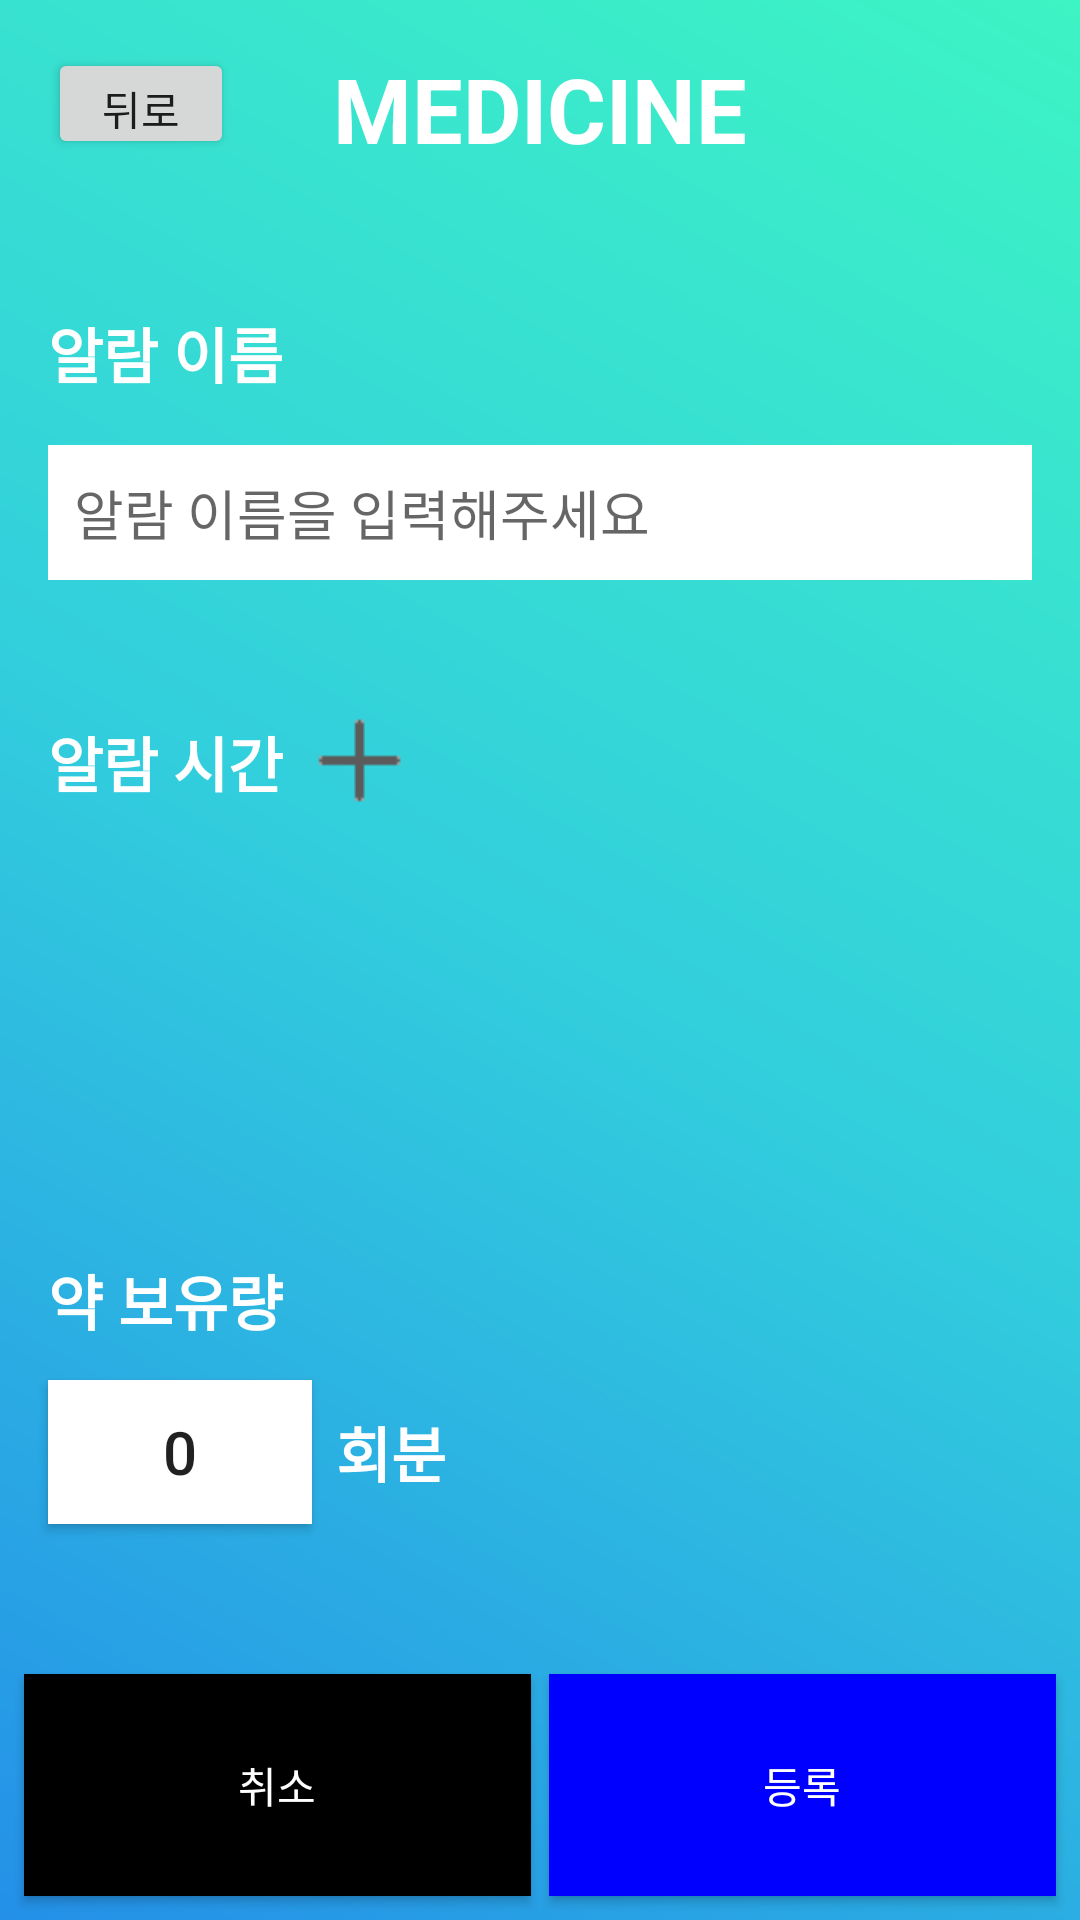

Locate icon controls on the screen. Image size 1080x1920, boxes as (x1,y1,x2,y2).
plus: (318,719,401,802)
